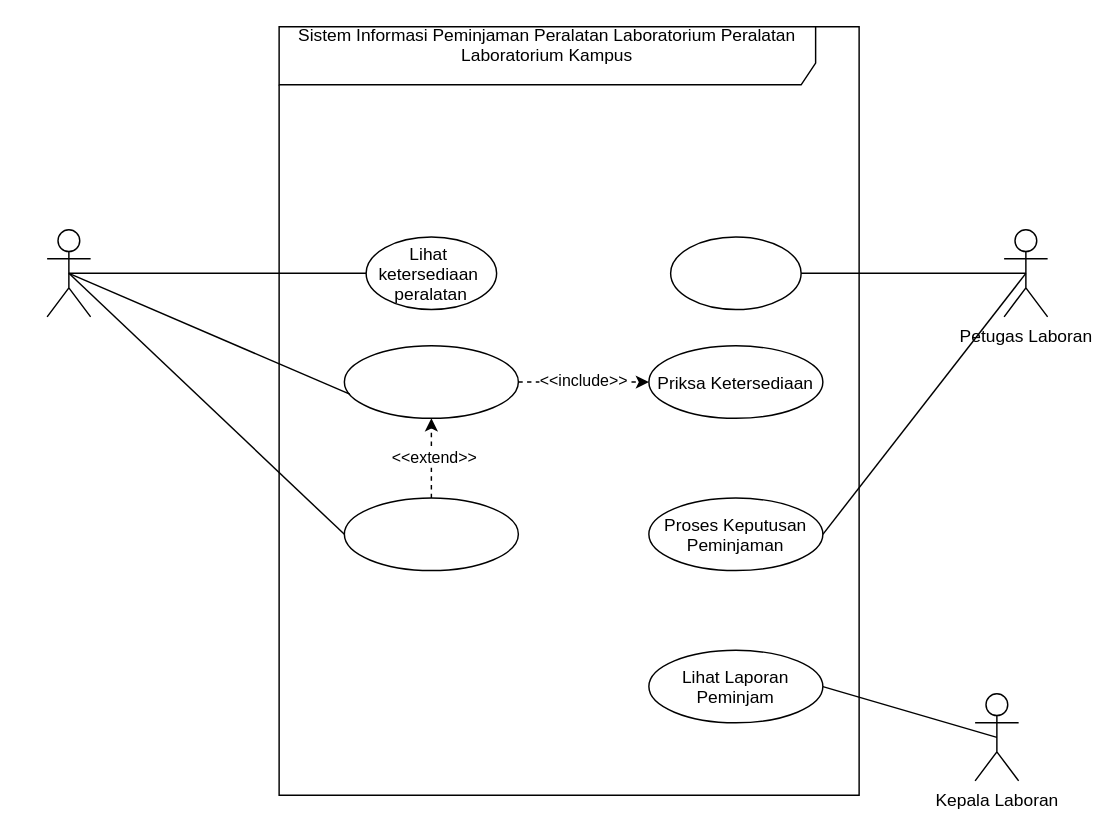
Image size: 1117x837. Some labels were removed from this diagram. Each missing label, with the centre of its shape:
Ajukan Peminjaman: point (430, 381)
Cetak Bukti Pengajuan: point (430, 534)
Kelola data peralatan: point (735, 273)
Mahasiswa: point (68, 272)
